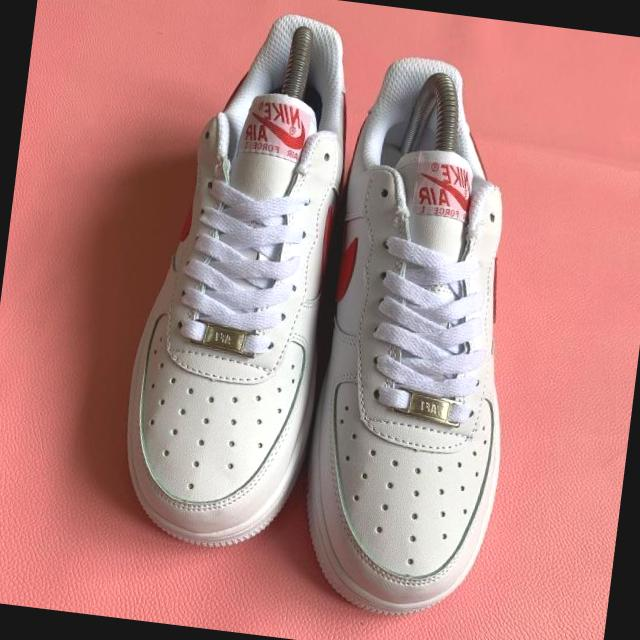nike_fake_airforce: (285, 14, 552, 622), (102, 0, 363, 567)
